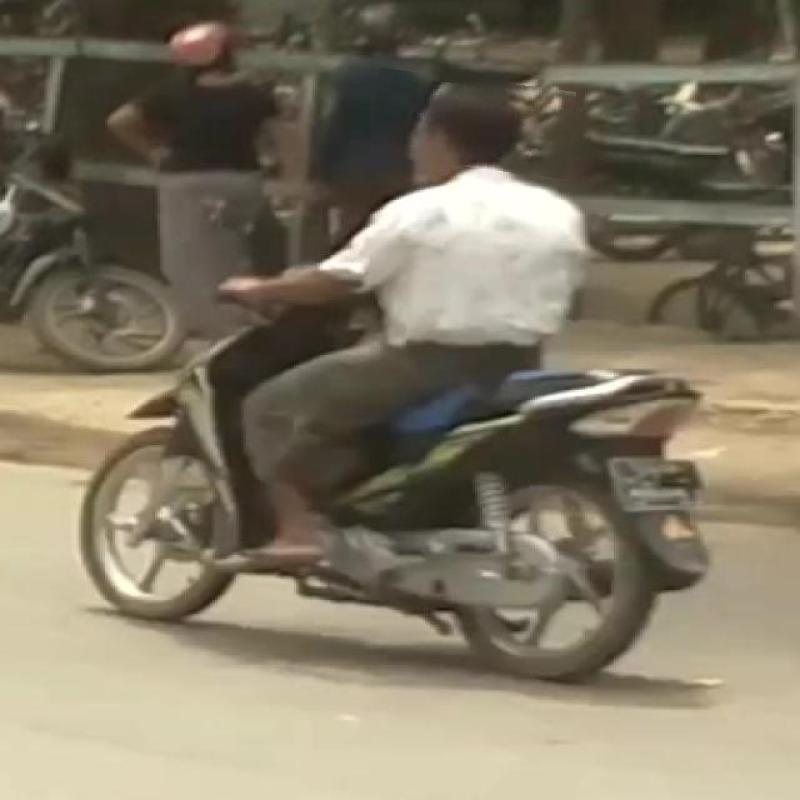nohelmet: (372, 74, 574, 174)
